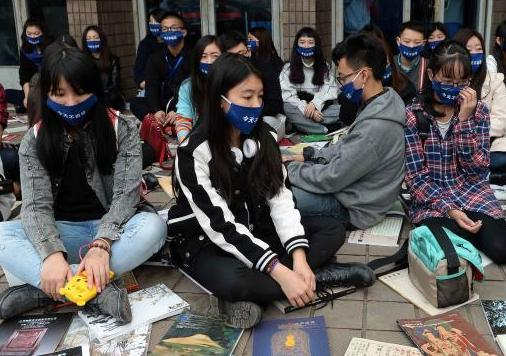OK: (437, 74, 469, 106), (463, 41, 485, 71), (162, 22, 184, 45), (27, 29, 46, 48), (248, 35, 266, 55), (149, 17, 166, 38), (430, 31, 446, 52), (87, 33, 103, 54)
WRONG: (48, 78, 96, 126), (225, 81, 264, 135), (337, 63, 369, 107), (199, 48, 225, 77), (400, 33, 425, 61), (299, 38, 316, 60)
